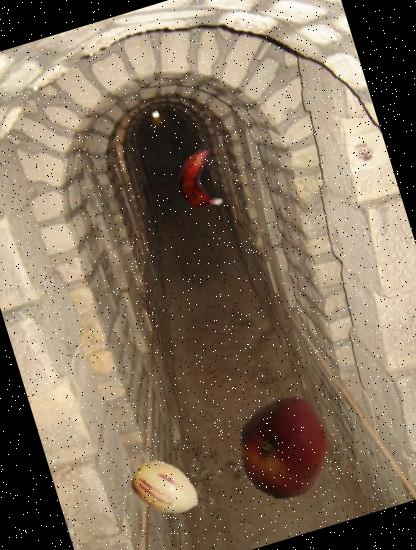Banana: (160, 139, 238, 216)
Nectarine: (219, 381, 350, 511)
Pepino: (124, 446, 210, 532)
